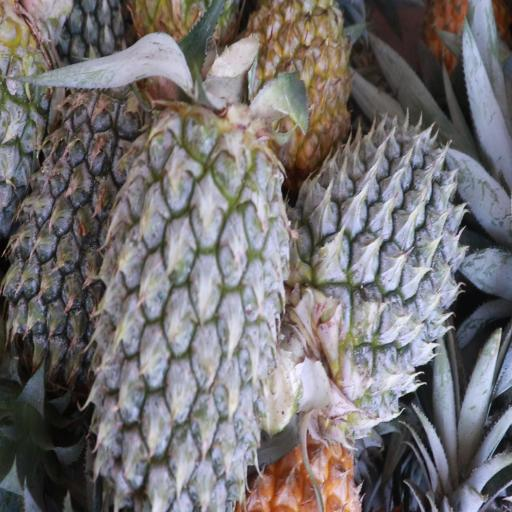Pineapple - v8 v1: (250, 0, 351, 149)
